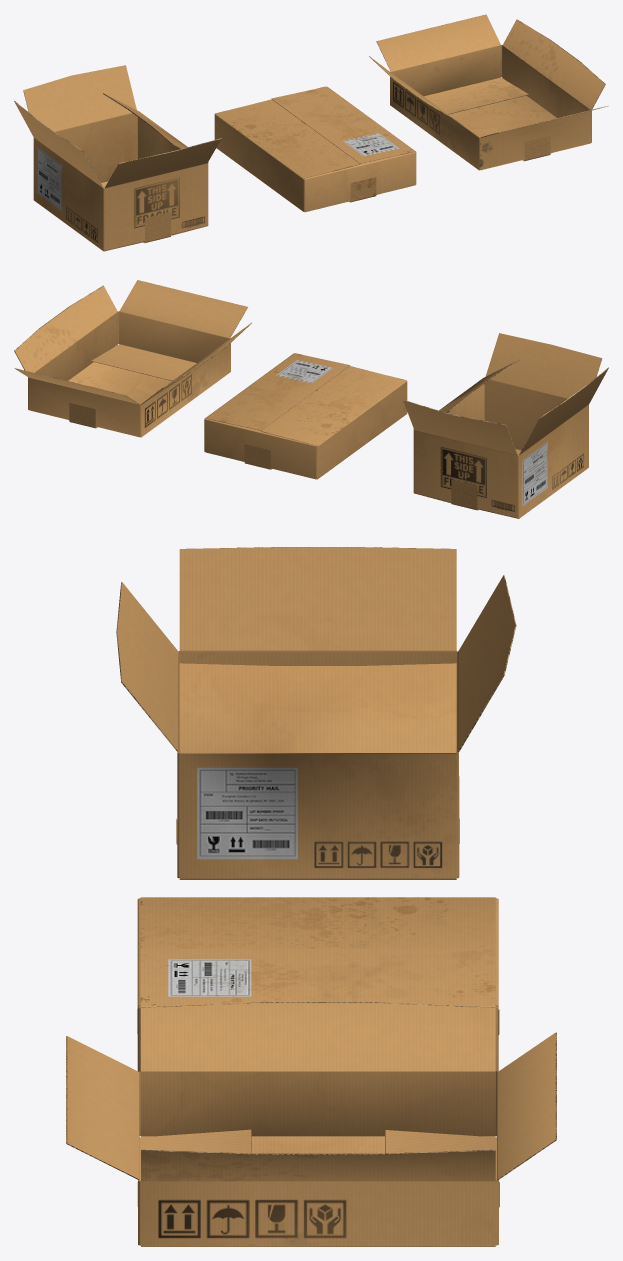
Rendered from 3boxkecil2.obj.
3 views of the same model, one above another, from view 1: azimuth 30°, elevation 25°; view 2: azimuth 150°, elevation 25°; view 3: azimuth 270°, elevation 25° (orthographic). The views are drawn at different scales.
Visible parts, largest first — view 1: Object_13, Object_11, Object_12; view 2: Object_11, Object_13, Object_12; view 3: Object_13, Object_11, Object_12.
Boxes of the visible parts, bbox=[...] form: Object_13: bbox=[14, 65, 221, 251]; Object_11: bbox=[369, 14, 608, 170]; Object_12: bbox=[214, 86, 416, 212]; Object_11: bbox=[14, 280, 251, 437]; Object_13: bbox=[403, 333, 608, 518]; Object_12: bbox=[204, 353, 407, 479]; Object_13: bbox=[116, 547, 516, 879]; Object_11: bbox=[66, 1002, 556, 1246]; Object_12: bbox=[137, 897, 499, 1071].
Bounding box in the file's own units: 1.01 × 0.2012 × 0.4156.
3 materials, 3 textured.
